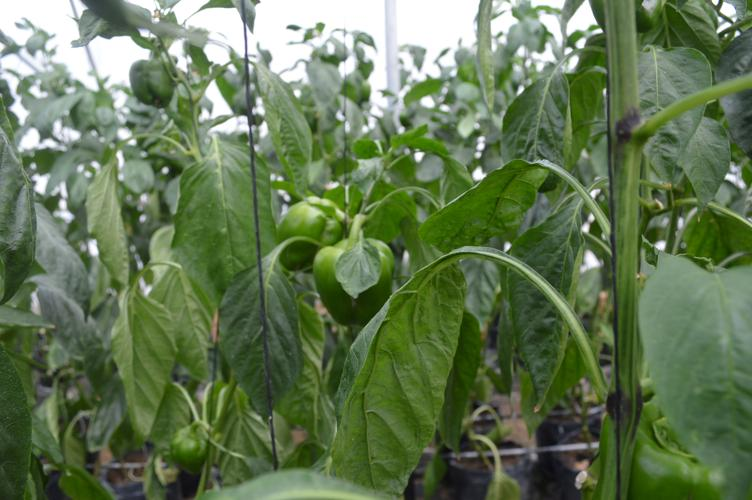BellPepper: (319, 242, 393, 320), (270, 197, 338, 272), (129, 60, 176, 112), (166, 424, 207, 471)
